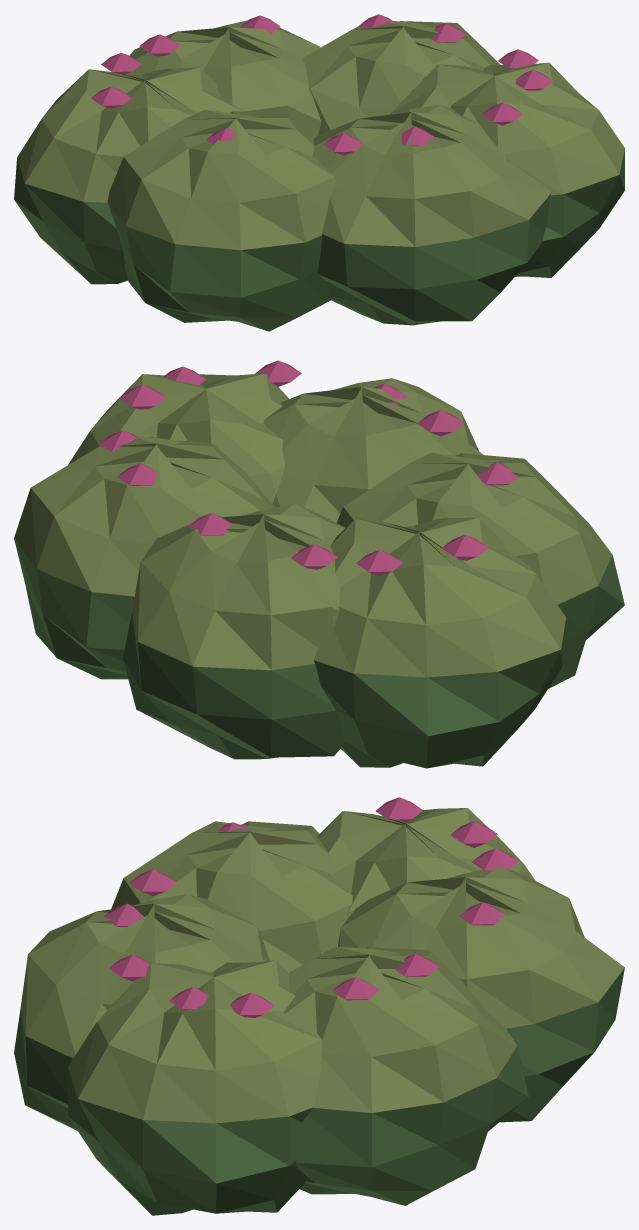
Rendered from republic-roses.glb.
3 renders of one model, top to bottom at view 1: azimuth 30°, elevation 25°; view 2: azimuth 150°, elevation 25°; view 3: azimuth 270°, elevation 25°, orthographic. The views are drawn at different scales.
Bounding box in the file's own units: 1.85 × 0.7268 × 1.65.
